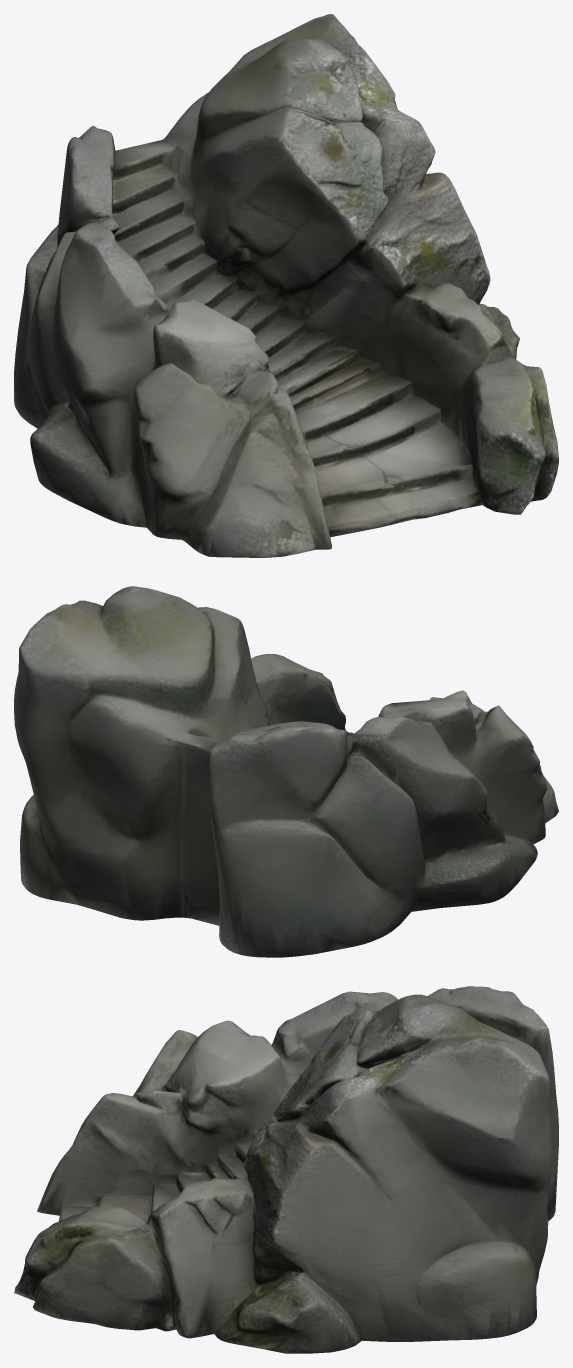
Rendered from mountain-stairs.glb.
3 renders of one model, top to bottom at view 1: azimuth 30°, elevation 25°; view 2: azimuth 150°, elevation 25°; view 3: azimuth 270°, elevation 25°, orthographic. The views are drawn at different scales.
Visible parts, largest first — view 1: material; view 2: material; view 3: material.
Boxes of the visible parts, x1,y1,x2,y2 form: material: (14, 14, 558, 557); material: (14, 586, 558, 957); material: (14, 986, 558, 1353).
Bounding box in the file's own units: 0.8977 × 0.5639 × 0.9478.
Materials: 1 (1 with a texture image).
